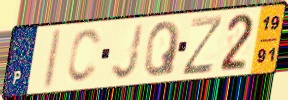2: (219, 12, 257, 74)
C: (65, 27, 103, 85)
I: (40, 27, 64, 92)
J: (109, 22, 146, 82)
Q: (142, 19, 182, 79)
Z: (180, 13, 226, 78)
